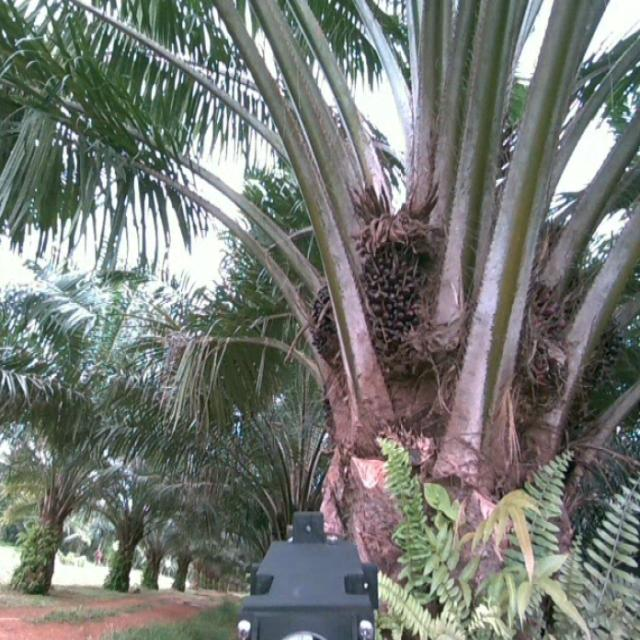palm-oil: (359, 213, 440, 382), (514, 280, 560, 428), (305, 273, 356, 388), (573, 313, 621, 426)
